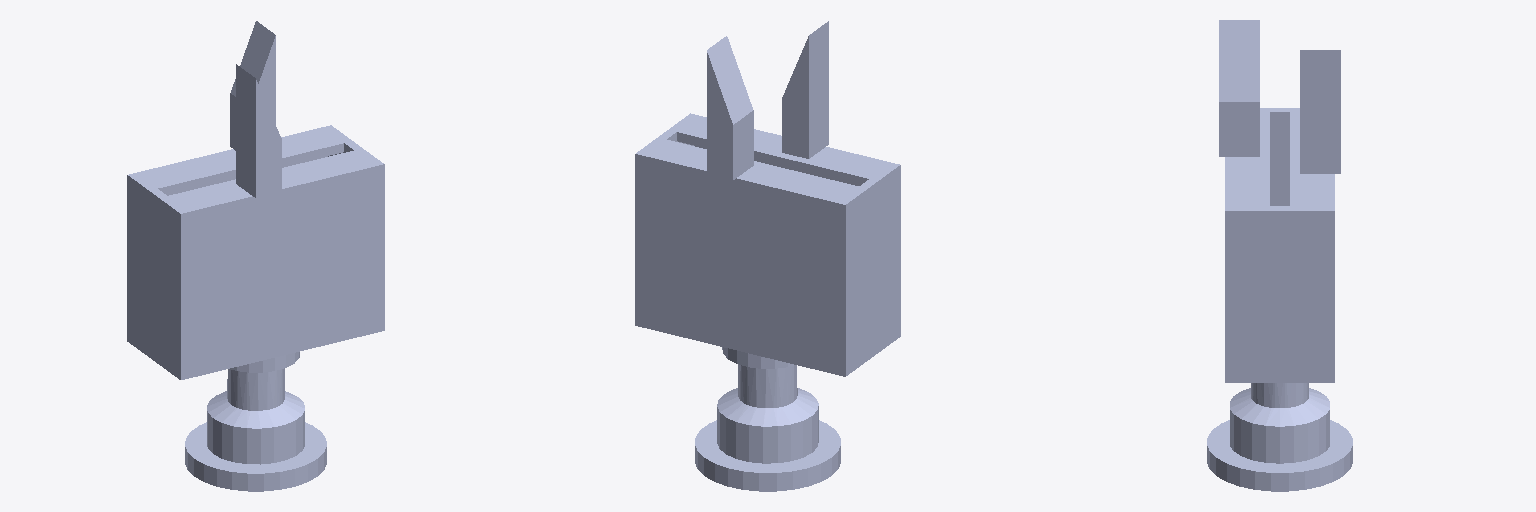
URDF robot description (ee_assem):
<?xml version="1.0" encoding="utf-8"?>
<!-- This URDF was automatically created by SolidWorks to URDF Exporter! Originally created by [author] ([email redacted]) 
     Commit Version: 1.5.1-0-g916b5db  Build Version: 1.5.7152.31018
     For more information, please see http://wiki.ros.org/sw_urdf_exporter -->
<robot
  name="ee_assem">
  <link
    name="base_link">
    <inertial>
      <origin
        xyz="8.3267E-17 0 0.096992"
        rpy="0 0 0" />
      <mass
        value="0.24537" />
      <inertia
        ixx="0.0006313"
        ixy="8.5962E-21"
        ixz="-5.1617E-19"
        iyy="0.00085607"
        iyz="-6.1777E-20"
        izz="0.00041783" />
    </inertial>
    <visual>
      <origin
        xyz="0 0 0"
        rpy="0 0 0" />
      <geometry>
        <mesh
          filename="package://ee_assem/meshes/base_link.STL" />
      </geometry>
      <material
        name="">
        <color
          rgba="0.79216 0.81961 0.93333 1" />
      </material>
    </visual>
    <collision>
      <origin
        xyz="0 0 0"
        rpy="0 0 0" />
      <geometry>
        <mesh
          filename="package://ee_assem/meshes/base_link.STL" />
      </geometry>
    </collision>
  </link>
  <link
    name="claw_1">
    <inertial>
      <origin
        xyz="0.024057 0.01 0.0065931"
        rpy="0 0 0" />
      <mass
        value="0.0153" />
      <inertia
        ixx="7.6554E-07"
        ixy="3.2083E-23"
        ixz="3.3914E-07"
        iyy="4.494E-06"
        iyz="-3.0551E-23"
        izz="4.711E-06" />
    </inertial>
    <visual>
      <origin
        xyz="0 0 0"
        rpy="0 0 0" />
      <geometry>
        <mesh
          filename="package://ee_assem/meshes/claw_1.STL" />
      </geometry>
      <material
        name="">
        <color
          rgba="0.79216 0.81961 0.93333 1" />
      </material>
    </visual>
    <collision>
      <origin
        xyz="0 0 0"
        rpy="0 0 0" />
      <geometry>
        <mesh
          filename="package://ee_assem/meshes/claw_1.STL" />
      </geometry>
    </collision>
  </link>
  <joint
    name="joint_claw_1"
    type="prismatic">
    <origin
      xyz="0.017387 0.01 0.163"
      rpy="0 -1.5708 0" />
    <parent
      link="base_link" />
    <child
      link="claw_1" />
    <axis
      xyz="0 0 -1" />
    <limit
      lower="0"
      upper="0.2"
      effort="20"
      velocity="2" />
  </joint>
  <link
    name="claw_2">
    <inertial>
      <origin
        xyz="0.024057 0.01 0.0065931"
        rpy="0 0 0" />
      <mass
        value="0.0153" />
      <inertia
        ixx="7.6554E-07"
        ixy="7.0525E-23"
        ixz="3.3914E-07"
        iyy="4.494E-06"
        iyz="-7.8524E-24"
        izz="4.711E-06" />
    </inertial>
    <visual>
      <origin
        xyz="0 0 0"
        rpy="0 0 0" />
      <geometry>
        <mesh
          filename="package://ee_assem/meshes/claw_2.STL" />
      </geometry>
      <material
        name="">
        <color
          rgba="0.79216 0.81961 0.93333 1" />
      </material>
    </visual>
    <collision>
      <origin
        xyz="0 0 0"
        rpy="0 0 0" />
      <geometry>
        <mesh
          filename="package://ee_assem/meshes/claw_2.STL" />
      </geometry>
    </collision>
  </link>
  <joint
    name="joint_claw_2"
    type="prismatic">
    <origin
      xyz="-0.017387 -0.01 0.163"
      rpy="3.1416 -1.5708 0" />
    <parent
      link="base_link" />
    <child
      link="claw_2" />
    <axis
      xyz="0 0 1" />
    <limit
      lower="0"
      upper="0.2"
      effort="20"
      velocity="2" />
  </joint>
</robot>

--- Facts derived from the render (not from the file) ---
The picture shows the robot from 3 angles, left to right: view 1: azimuth 30°, elevation 25°; view 2: azimuth 150°, elevation 25°; view 3: azimuth 270°, elevation 25°; orthographic projection.
Robot: ee_assem — 3 links, 2 joints (2 prismatic); root link base_link; default pose: every joint at zero.
Visible links, largest first — view 1: base_link, claw_2, claw_1; view 2: base_link, claw_1, claw_2; view 3: base_link, claw_2, claw_1.
Boxes of the visible links, left/top/right/bottom form: base_link: left=127, top=125, right=384, bottom=491; claw_2: left=236, top=64, right=281, bottom=197; claw_1: left=230, top=21, right=275, bottom=150; base_link: left=635, top=113, right=900, bottom=491; claw_1: left=707, top=36, right=753, bottom=179; claw_2: left=782, top=21, right=828, bottom=158; base_link: left=1207, top=108, right=1352, bottom=491; claw_2: left=1219, top=20, right=1259, bottom=156; claw_1: left=1300, top=50, right=1340, bottom=173.
Bounding box of the posed robot: 0.119 × 0.0719 × 0.23 m (x, y, z).
Meshes: 3 distinct files referenced, 3 mesh visuals loaded (3 binary STL).